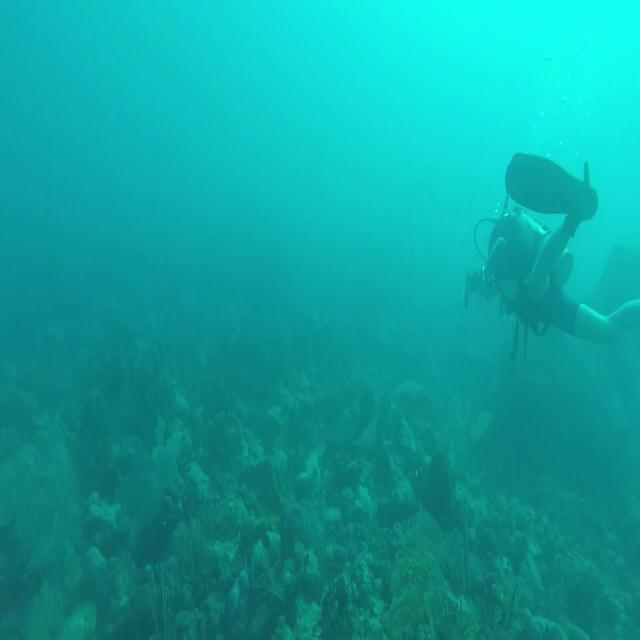human: (463, 150, 638, 361)
